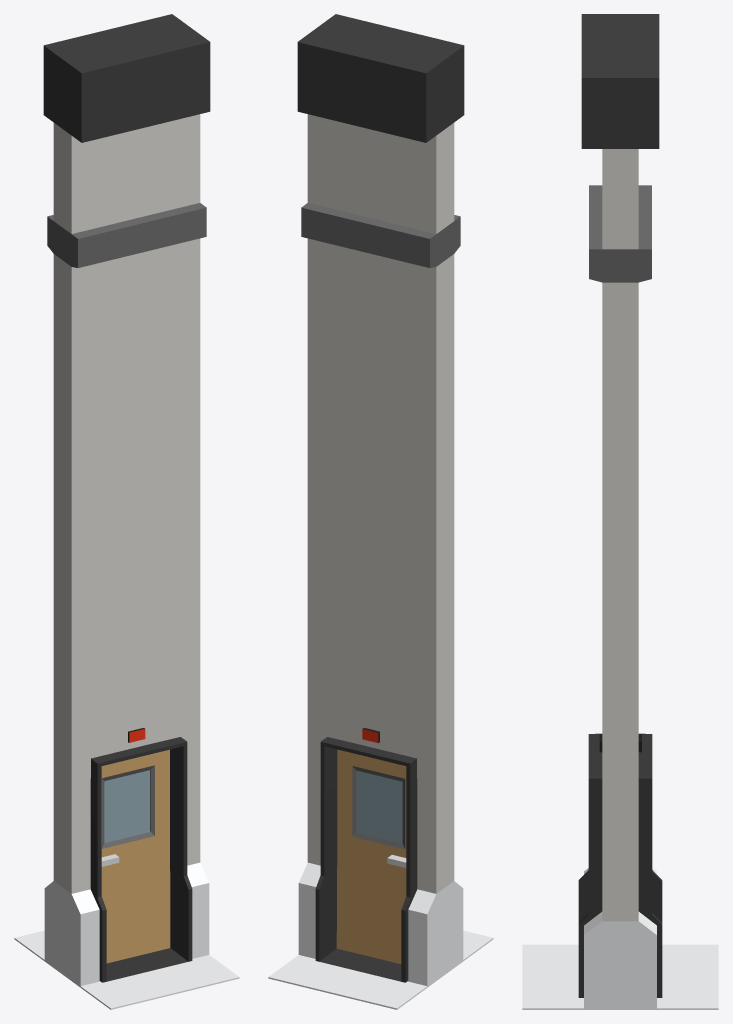
File: ManDoor.fbx
3 views of the same model, side by side, from view 1: azimuth 30°, elevation 25°; view 2: azimuth 150°, elevation 25°; view 3: azimuth 270°, elevation 25° (orthographic).
Visible parts, largest first — view 1: ManDoor, Door, DoorFrame; view 2: ManDoor, Door, DoorFrame; view 3: ManDoor, DoorFrame.
Boxes of the visible parts, bbox=[...] form: ManDoor: bbox=[14, 14, 239, 1009]; Door: bbox=[101, 749, 170, 963]; DoorFrame: bbox=[90, 737, 192, 982]; ManDoor: bbox=[268, 14, 493, 1009]; Door: bbox=[336, 749, 406, 963]; DoorFrame: bbox=[315, 737, 417, 982]; ManDoor: bbox=[522, 14, 718, 1009]; DoorFrame: bbox=[578, 733, 662, 997].
Size of the model in its own units: 1.32 by 1.72 by 9.03.
